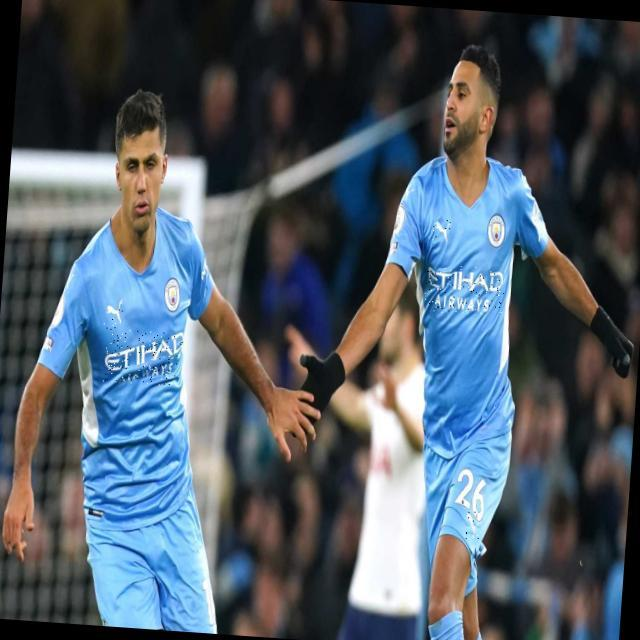Etihad Airways: (102, 327, 184, 386), (423, 264, 505, 317)
Puma: (103, 298, 125, 332), (432, 219, 451, 246), (464, 511, 480, 541)
